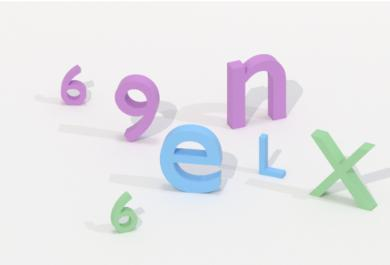6: (107, 188, 139, 237), (57, 61, 88, 108)
9: (112, 72, 162, 145)
L: (255, 130, 288, 182)
X: (307, 125, 379, 213)
e: (156, 121, 224, 197)
n: (221, 49, 291, 130)
